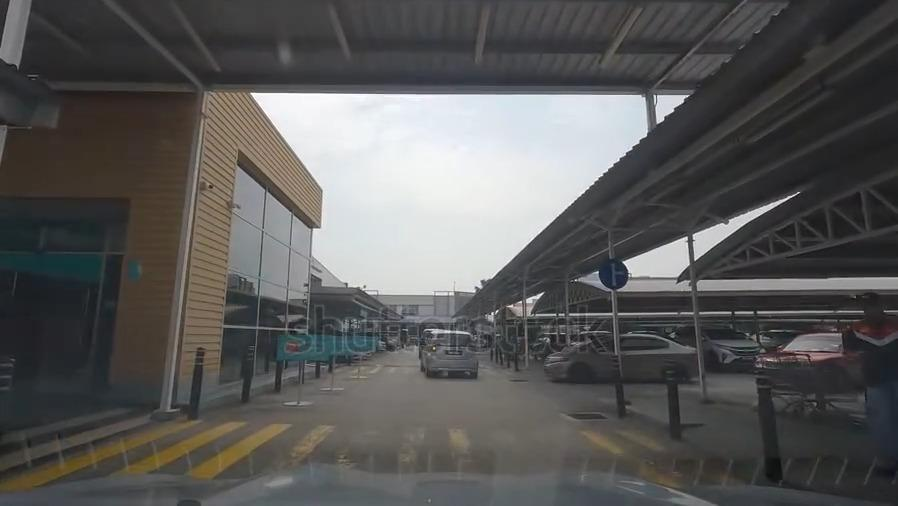car: (541, 331, 700, 387), (673, 321, 763, 371), (757, 332, 852, 375), (421, 331, 478, 378), (749, 324, 788, 351), (419, 327, 439, 351)
manhole: (558, 407, 607, 424), (509, 374, 527, 387)
pedestrian: (7, 426, 705, 486), (328, 356, 510, 381)
person: (839, 290, 898, 474)
